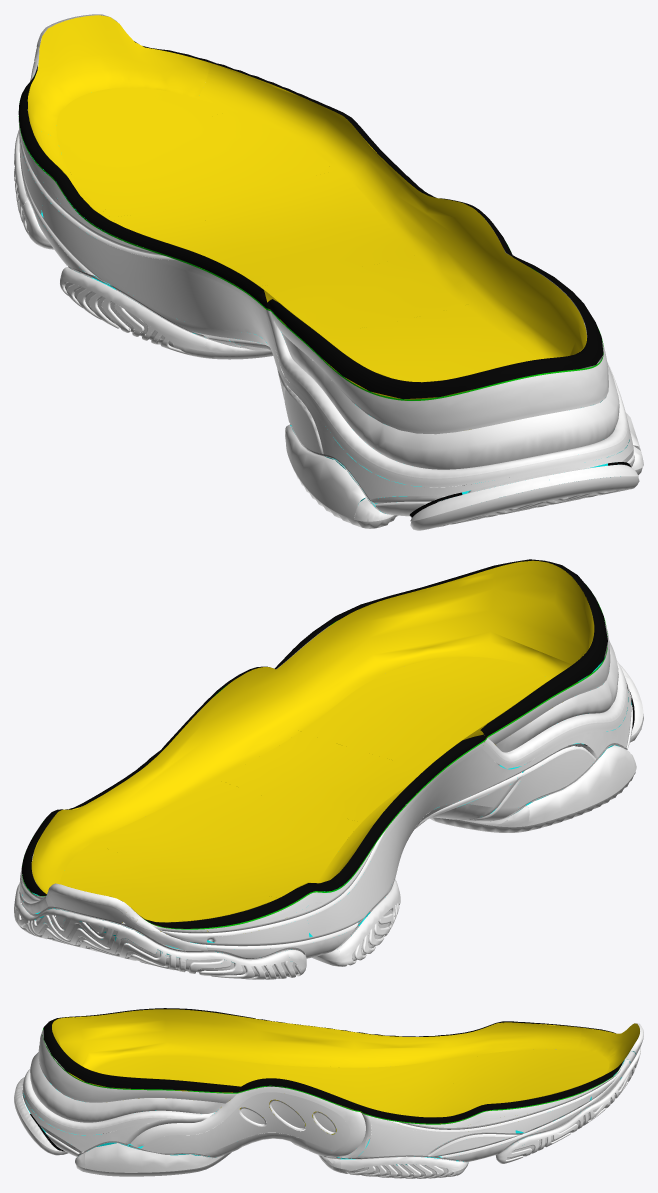
3 renders of one model, top to bottom at view 1: azimuth 30°, elevation 25°; view 2: azimuth 150°, elevation 25°; view 3: azimuth 270°, elevation 25°, orthographic. The views are drawn at different scales.
Parts seen in each view (by area): view 1: NY90_Nº35___100_; view 2: NY90_Nº35___100_; view 3: NY90_Nº35___100_.
Part boxes in pixels (box(x1,y1,x2,y2)): NY90_Nº35___100_: box(14, 14, 643, 530); NY90_Nº35___100_: box(14, 559, 643, 979); NY90_Nº35___100_: box(14, 1008, 643, 1178).
Size of the model in its own units: 107 by 51.11 by 277.
